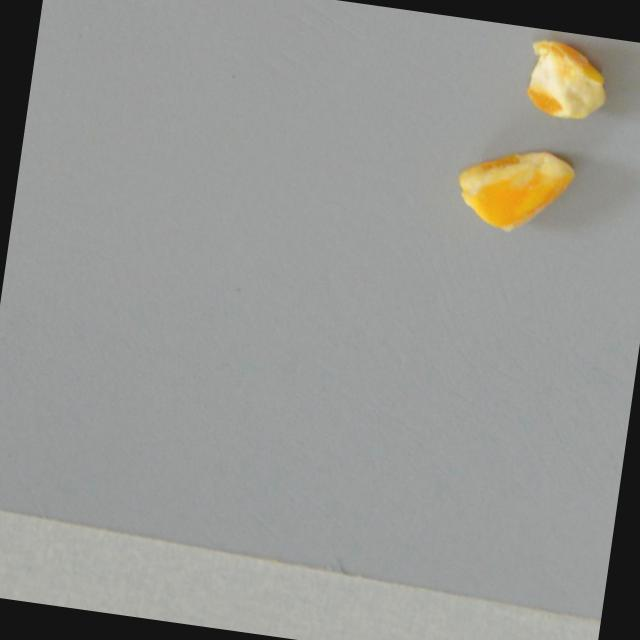pelicula: (449, 136, 579, 243), (519, 28, 616, 133)
